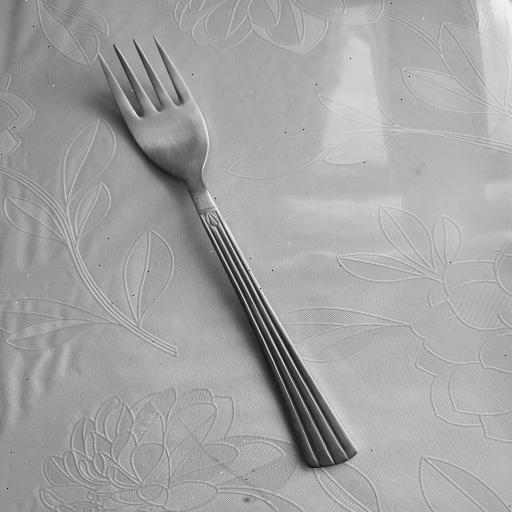fork: (81, 32, 359, 471)
